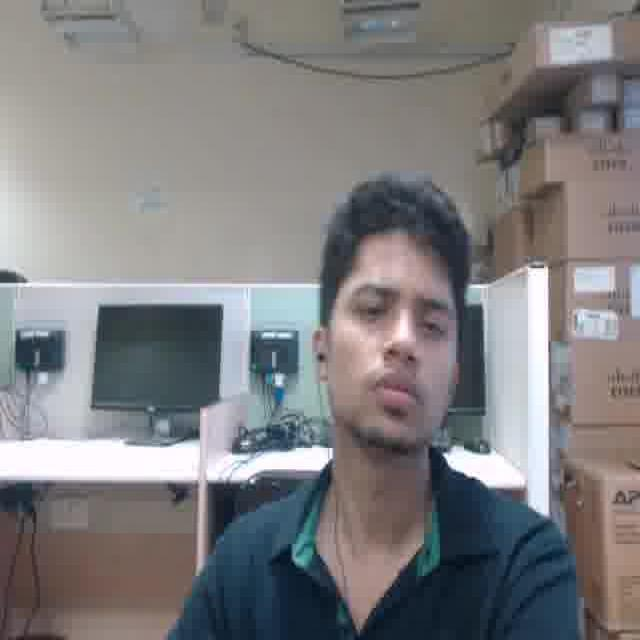Confusion: (327, 238, 454, 442)
